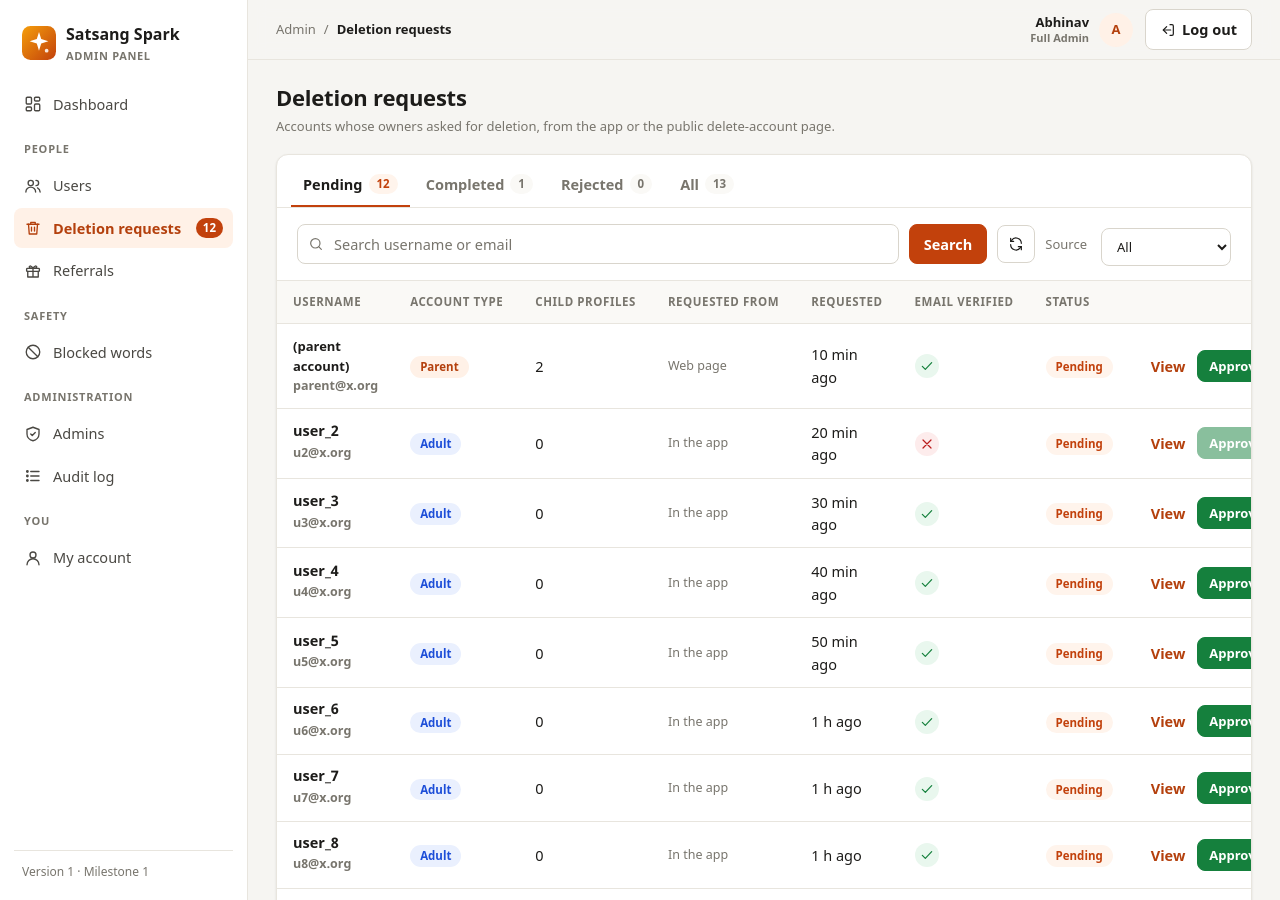
Approve disabled when email not verified; completed rows show only View and the admin name
Expected: the button "Approve" in the row of "user_2" is disabled, [1197,427,1251,459]
Step 1. Click the button "Completed 1" → click(479, 186), box [414,165,545,207]
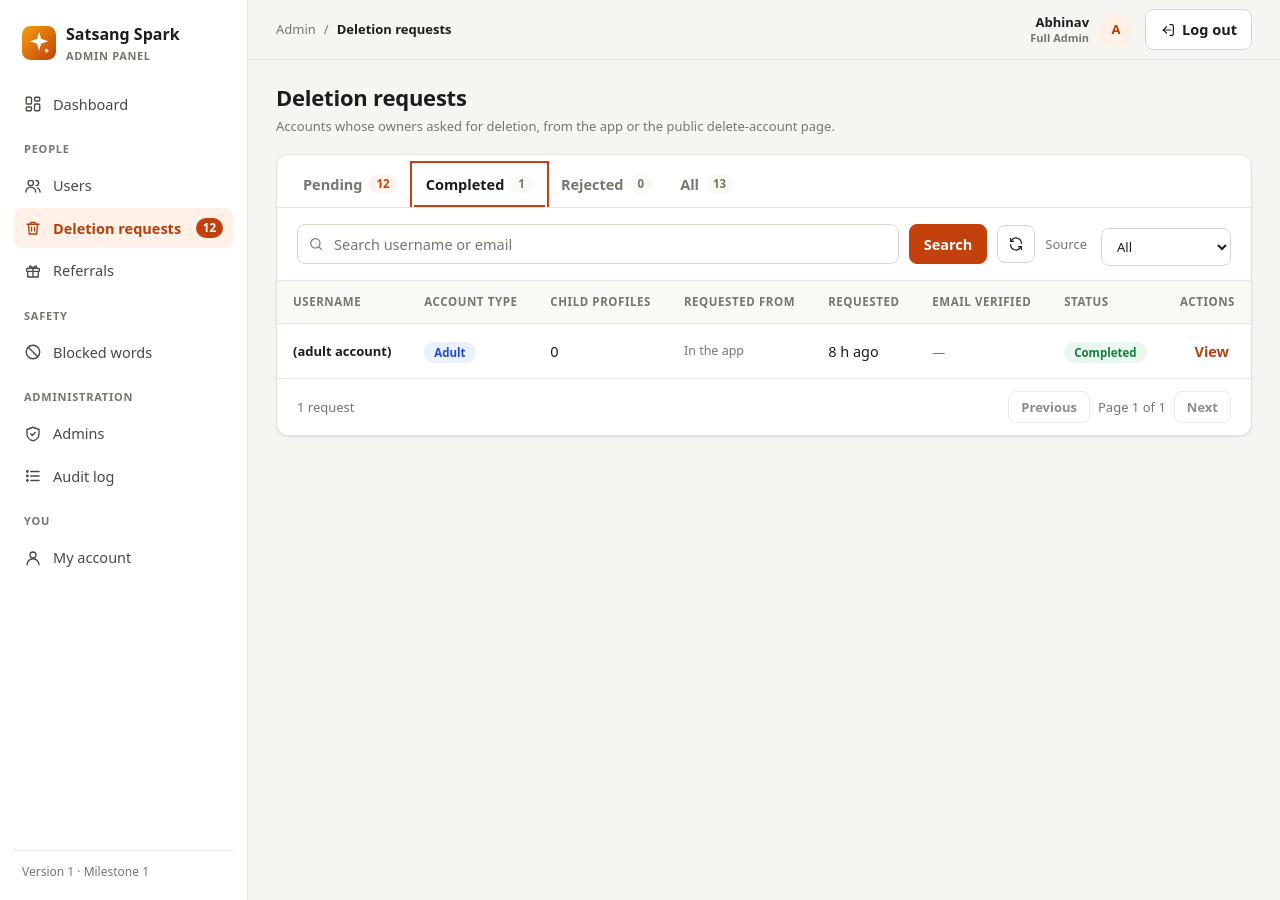
Now the buttons read "View", in this order
Step 2. Click the button "View" → click(1212, 351), box [1188,336,1235,366]
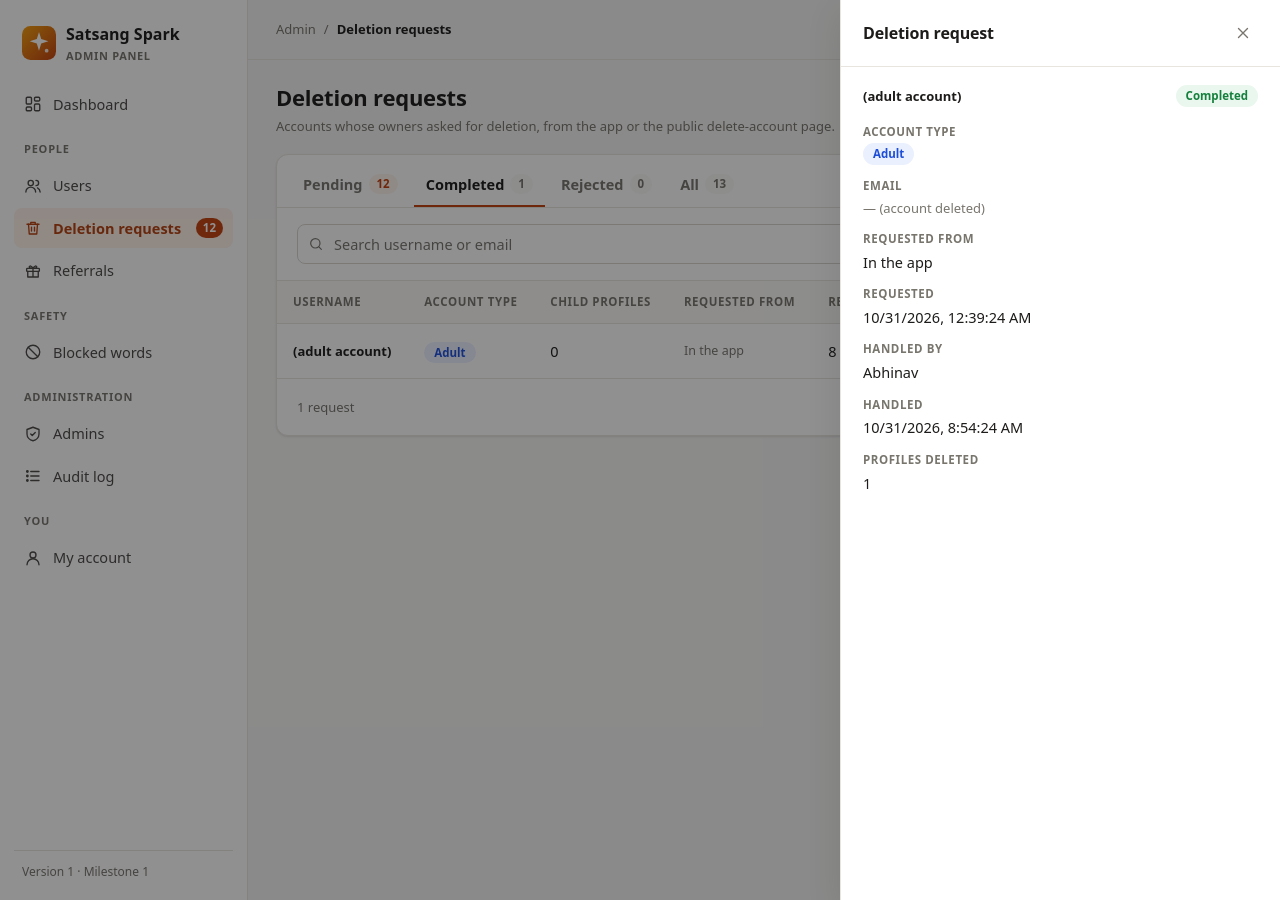
Now the text "Abhinav" is shown, box [863,362,918,382]
